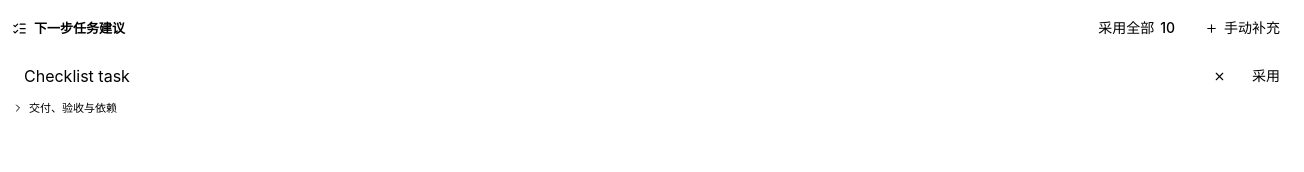
Test case: Goal assistant boundaries › rolls back optimistic adoption failure and retry creates one durable Task
Click the button "采用": (1266, 76) left=1240, top=60, right=1292, bottom=92
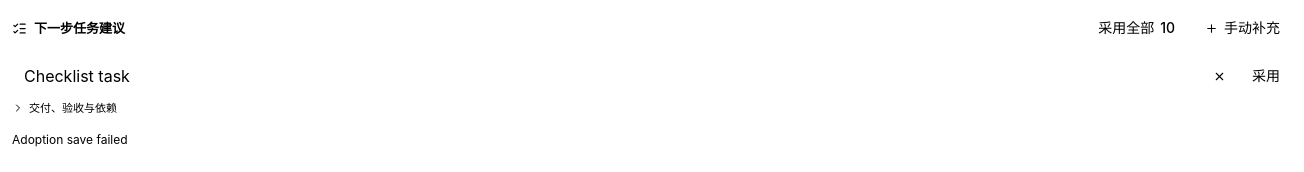
Expected: the message reads "Adoption save failed", left=12, top=132, right=128, bottom=147
Click the button "采用": (1266, 76) left=1240, top=60, right=1292, bottom=92
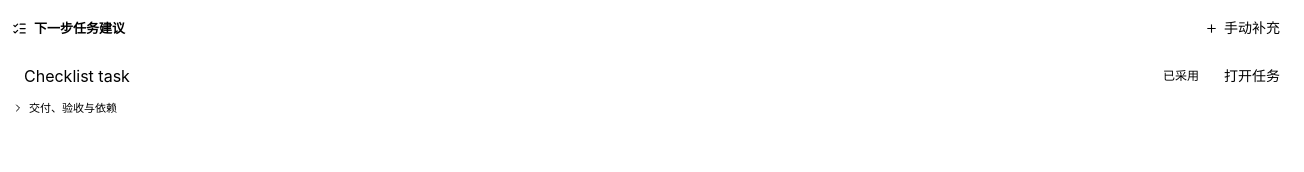
Expected: the text "已采用" is shown, left=1163, top=68, right=1199, bottom=83
